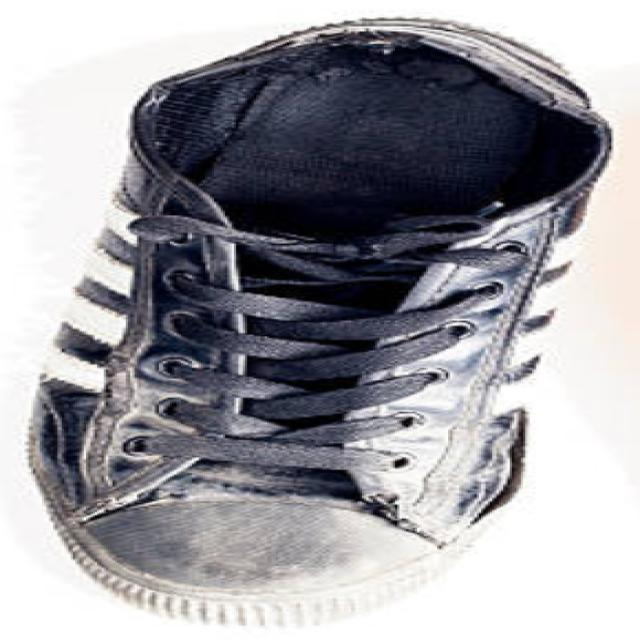bonding: (32, 366, 92, 520), (477, 400, 533, 528)
